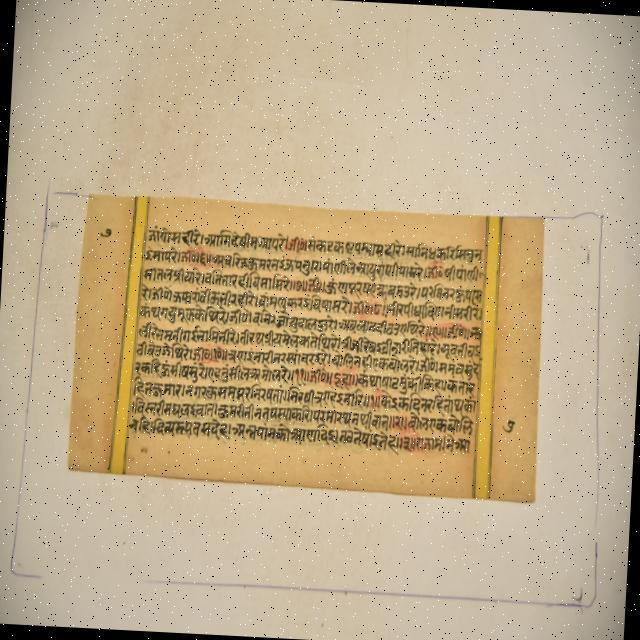text_paragraph: (66, 191, 542, 505)
